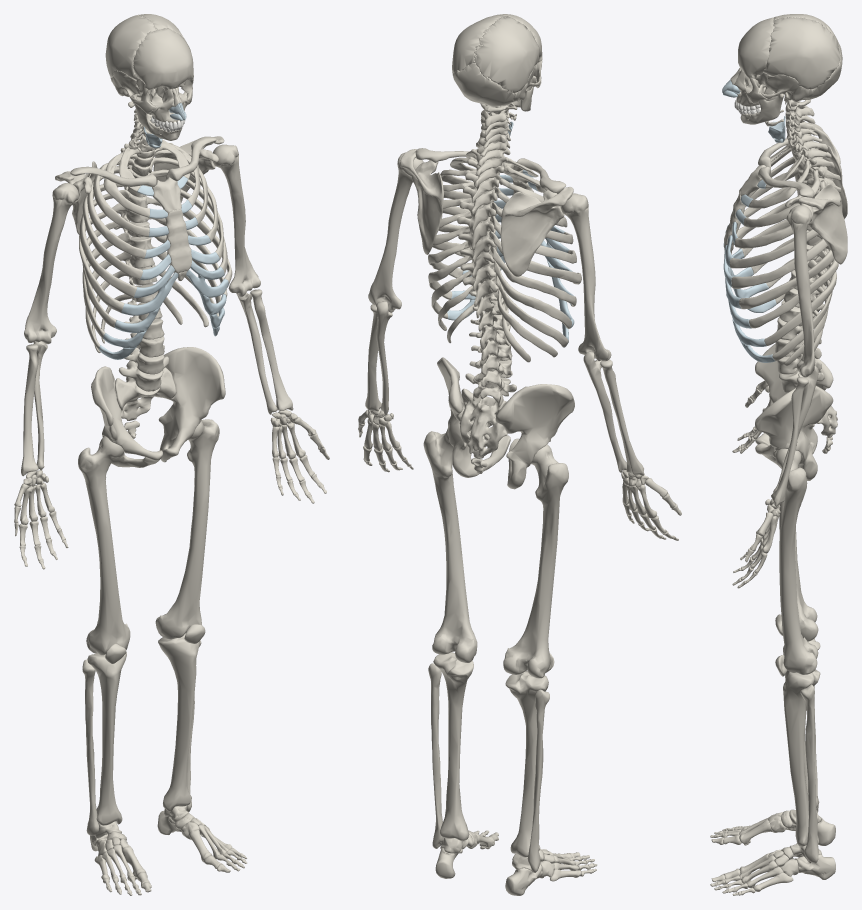
Rendered from squelette.glb.
3 views of the same model, side by side, from view 1: azimuth 30°, elevation 25°; view 2: azimuth 150°, elevation 25°; view 3: azimuth 270°, elevation 25° (orthographic). The views are drawn at different scales.
Parts seen in each view (by area): view 1: Femur.r, Femur.l, Hip bone.l, Tibia.l, Frontal bone, Tibia.r, Humerus.r, Humerus.l, Hip bone.r, Parietal bone.r, Sacrum, Fibula.r (+18 smaller); view 2: Femur.r, Femur.l, Hip bone.r, Scapula.r, Parietal bone.r, Tibia.l, Tibia.r, Humerus.r, Humerus.l, Hip bone.l, Scapula.l, Sacrum (+15 smaller); view 3: Femur.l, Parietal bone.l, Tibia.l, Hip bone.l, Humerus.l, Scapula.l, Fibula.l, Frontal bone, Hip bone.r, Radius.l, Femur.r, Seventh rib.l (+28 smaller).
Part boxes in pixels (bbox=[...]): Femur.r: bbox=[78, 436, 130, 655]; Femur.l: bbox=[155, 419, 219, 639]; Hip bone.l: bbox=[158, 347, 225, 462]; Tibia.l: bbox=[158, 633, 200, 811]; Frontal bone: bbox=[133, 28, 193, 91]; Tibia.r: bbox=[87, 652, 126, 825]; Humerus.r: bbox=[24, 183, 78, 344]; Humerus.l: bbox=[212, 144, 260, 296]; Hip bone.r: bbox=[91, 366, 162, 467]; Parietal bone.r: bbox=[105, 15, 157, 79]; Sacrum: bbox=[115, 367, 175, 420]; Fibula.r: bbox=[82, 659, 99, 835]; Femur.r: bbox=[503, 444, 568, 678]; Femur.l: bbox=[423, 428, 477, 662]; Hip bone.r: bbox=[495, 384, 574, 489]; Scapula.r: bbox=[500, 187, 573, 276]; Parietal bone.r: bbox=[474, 16, 539, 93]; Tibia.l: bbox=[433, 652, 473, 840]; Tibia.r: bbox=[505, 671, 548, 857]; Humerus.r: bbox=[561, 193, 611, 361]; Humerus.l: bbox=[368, 152, 423, 312]; Hip bone.l: bbox=[437, 357, 510, 477]; Scapula.l: bbox=[400, 149, 443, 254]; Sacrum: bbox=[459, 388, 507, 458]; Femur.l: bbox=[775, 448, 818, 674]; Parietal bone.l: bbox=[763, 17, 840, 89]; Tibia.l: bbox=[783, 669, 820, 846]; Hip bone.l: bbox=[755, 386, 833, 480]; Humerus.l: bbox=[786, 205, 815, 377]; Scapula.l: bbox=[785, 183, 847, 264]; Fibula.l: bbox=[800, 684, 818, 863]; Frontal bone: bbox=[738, 17, 774, 78]; Hip bone.r: bbox=[755, 343, 833, 453]; Radius.l: bbox=[771, 377, 808, 506]; Femur.r: bbox=[779, 470, 818, 641]; Seventh rib.l: bbox=[739, 249, 834, 309].
Bounding box in the file's own units: 0.6692 × 1.7 × 0.2501.
